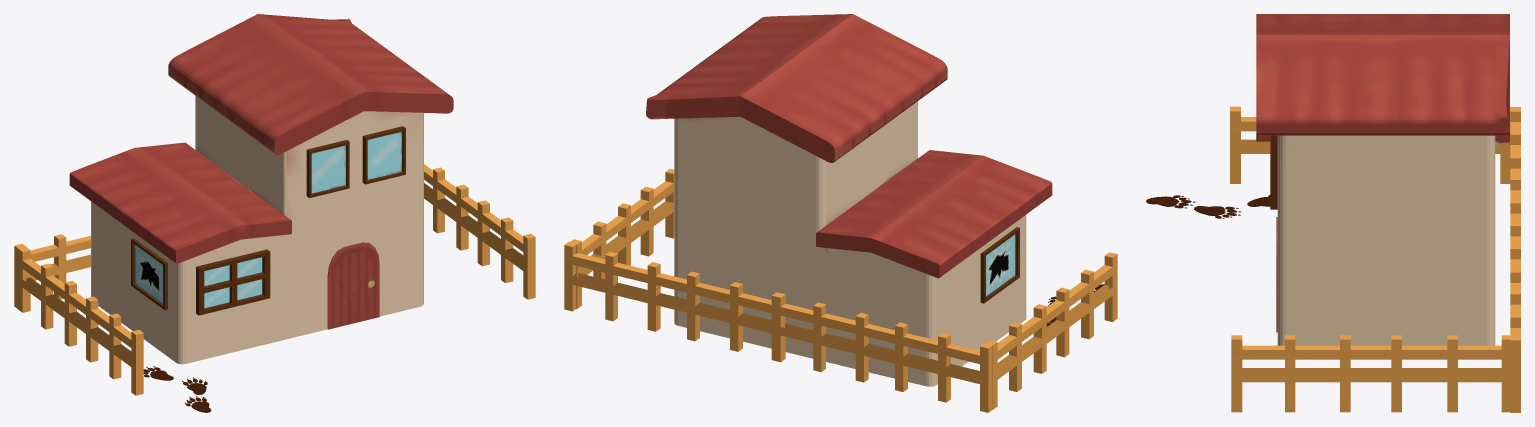
Rendered from Owl House.glb.
The picture shows the model from 3 angles, left to right: view 1: azimuth 30°, elevation 25°; view 2: azimuth 150°, elevation 25°; view 3: azimuth 270°, elevation 25°; orthographic projection. The views are drawn at different scales.
Visible parts, largest first — view 1: Cube, Cube.010, Cube.008, Cube.001, Cube.002, Cube.005, Cube.004, Cube.006, Cube.003; view 2: Cube, Cube.006, Cube.007, Cube.010, Cube.008, Cube.003; view 3: Cube, Cube.008, Cube.007, Cube.010, Cube.006, FOOT.002, FOOT.
Part boxes in pixels (box(x1,y1,x2,y2)): Cube: box(69, 14, 453, 364); Cube.010: box(18, 247, 143, 395); Cube.008: box(424, 164, 535, 299); Cube.001: box(327, 242, 379, 329); Cube.002: box(196, 249, 270, 315); Cube.005: box(362, 126, 405, 184); Cube.004: box(306, 140, 349, 197); Cube.006: box(14, 234, 90, 308); Cube.003: box(131, 238, 167, 310); Cube: box(646, 14, 1052, 386); Cube.006: box(772, 292, 992, 412); Cube.007: box(564, 241, 784, 359); Cube.010: box(985, 252, 1117, 409); Cube.008: box(570, 169, 674, 308); Cube.003: box(980, 227, 1019, 303); Cube: box(1256, 14, 1509, 345); Cube.008: box(1231, 335, 1512, 412); Cube.007: box(1510, 221, 1520, 412); Cube.010: box(1230, 106, 1511, 183); Cube.006: box(1510, 107, 1520, 225); FOOT.002: box(1146, 195, 1195, 208); FOOT: box(1194, 206, 1241, 218).
Size of the model in its own units: 20.57 by 11.65 by 13.95.
1 material, 1 textured.
